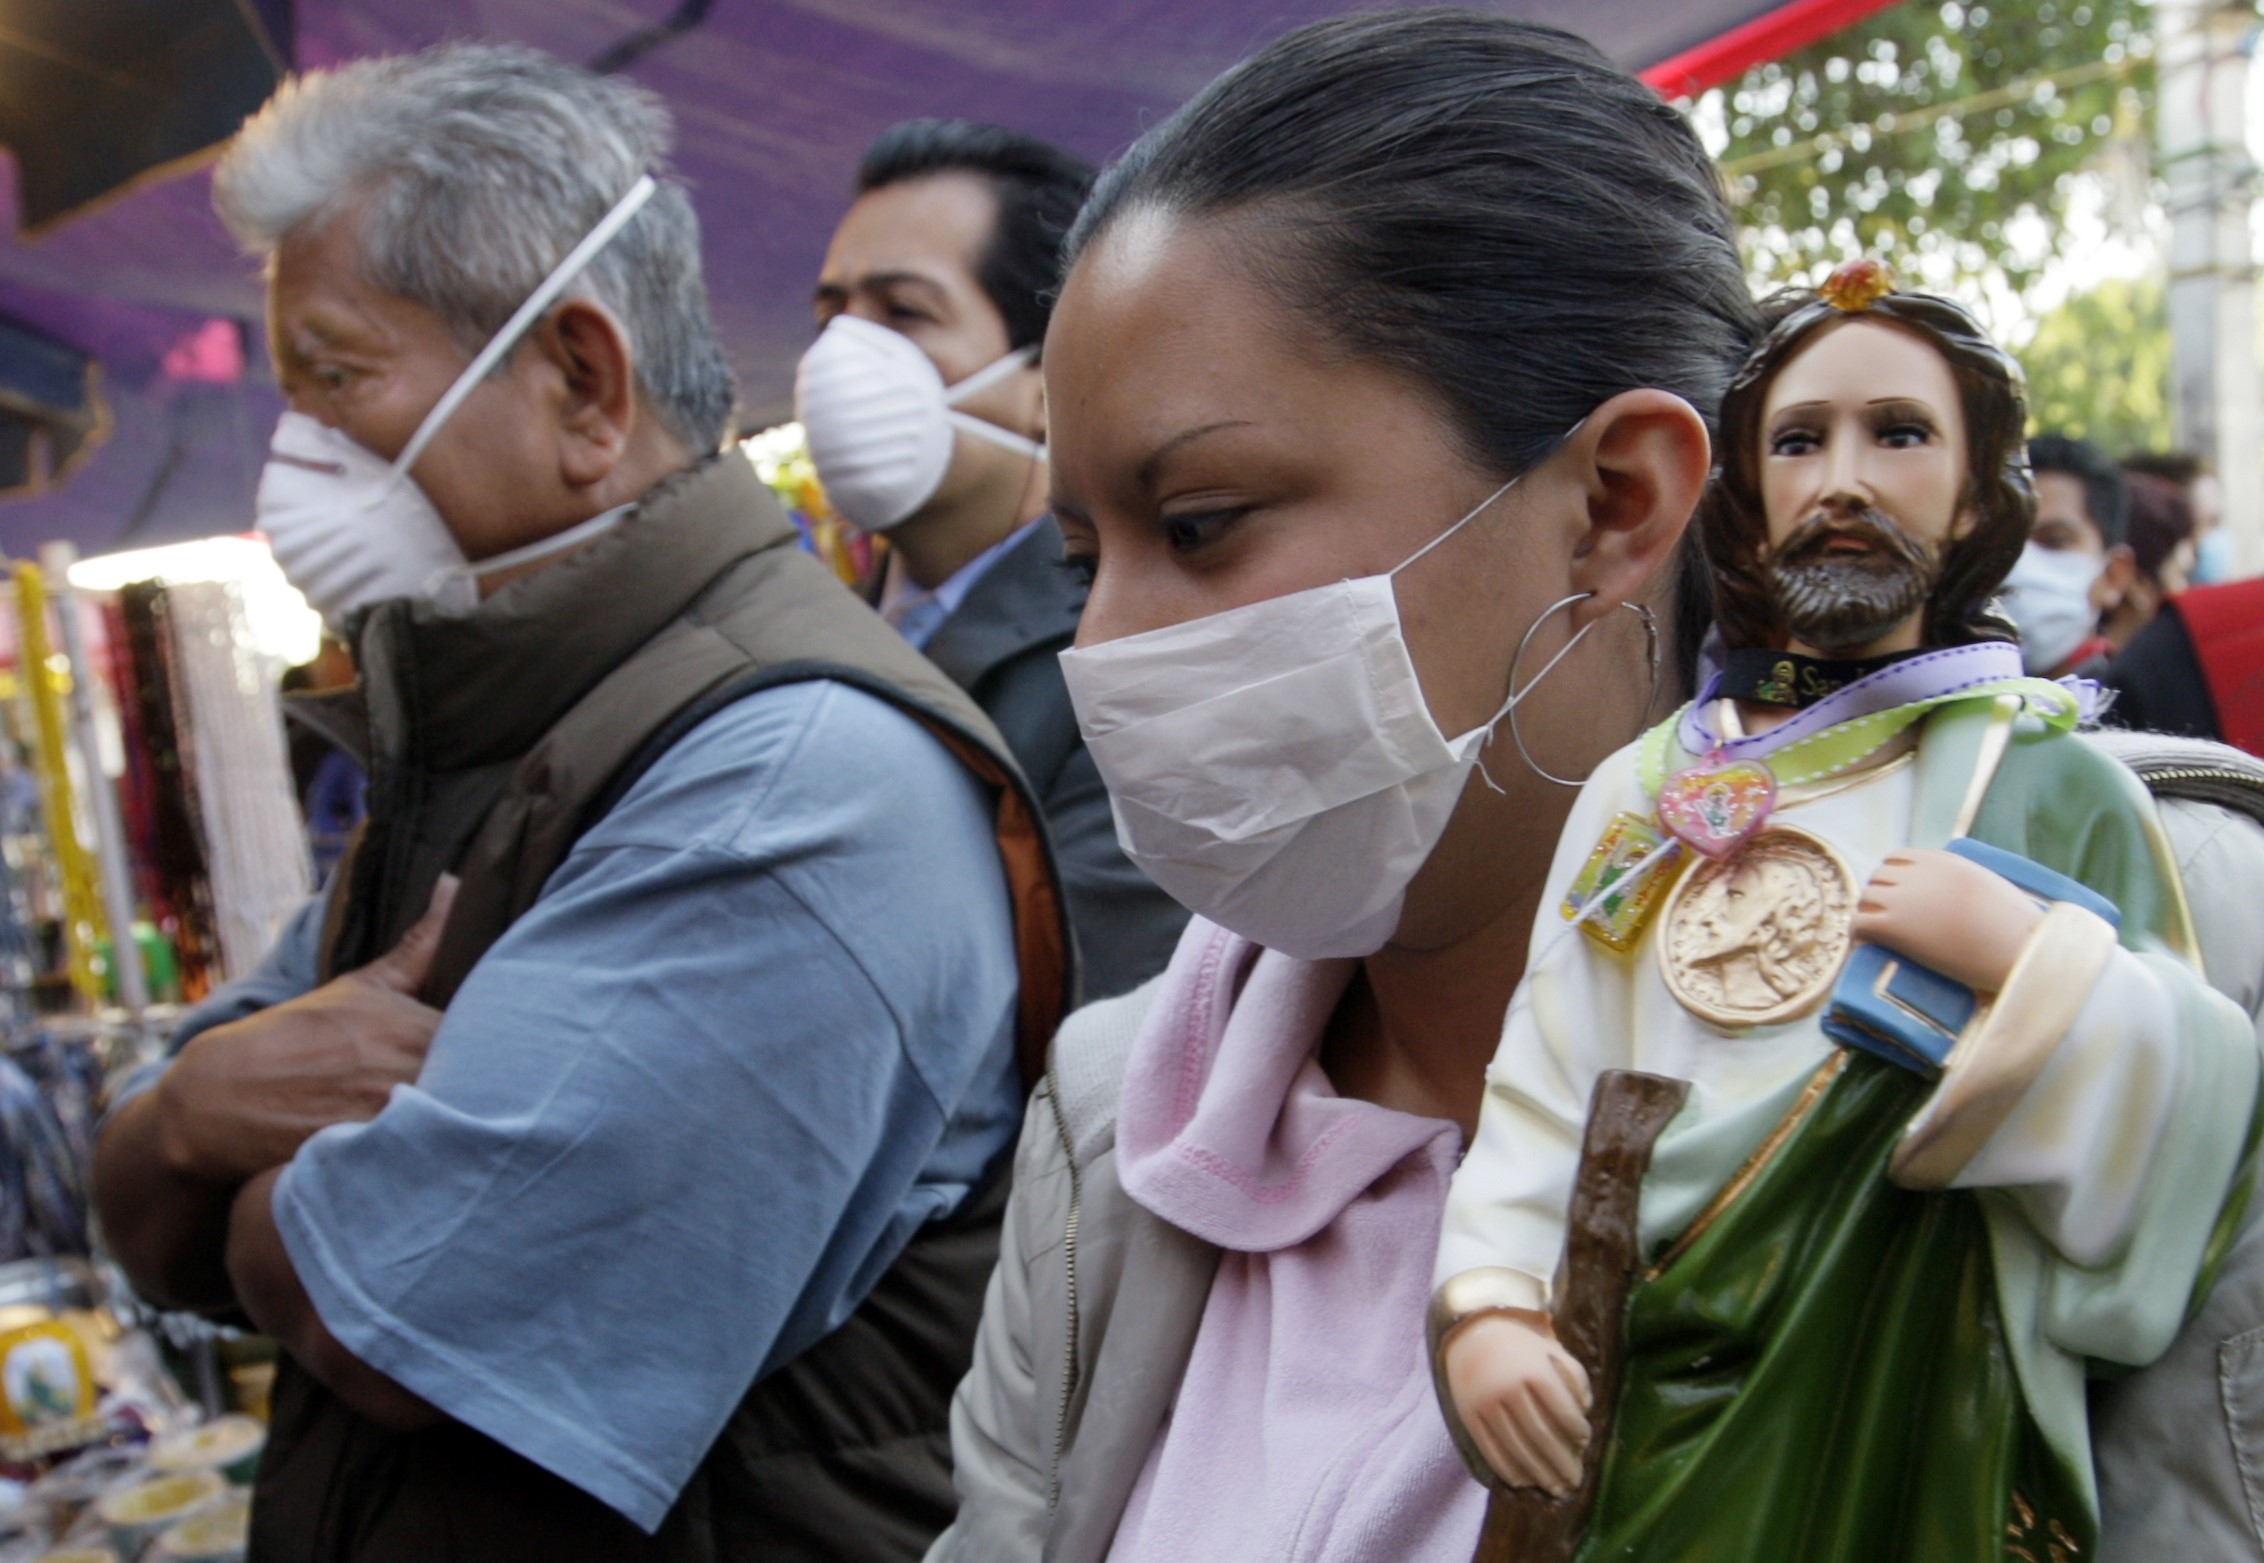face_with_mask: (1030, 30, 1726, 969), (257, 74, 728, 623), (805, 124, 1079, 542), (2011, 430, 2124, 661)
